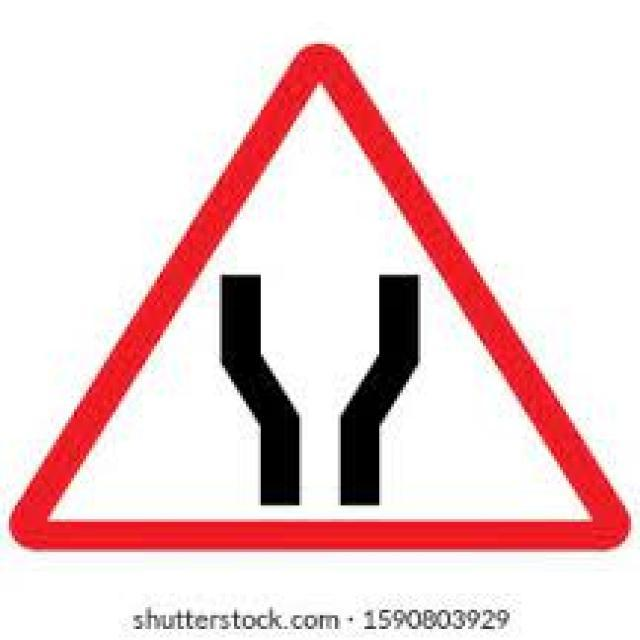road widens ahead: (14, 43, 629, 553)
